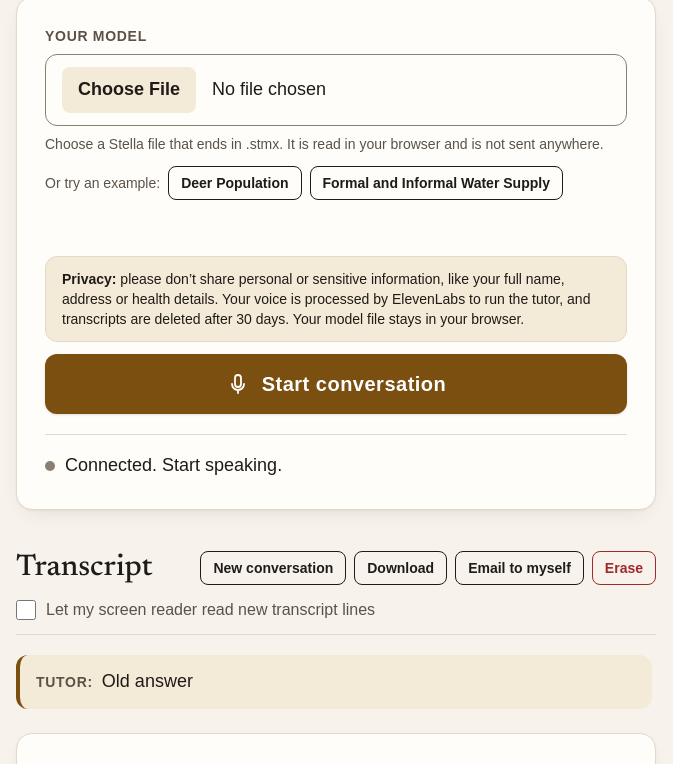
Scenario: starting over › starting again clears the previous transcript
(page scrolled)
What coordinates should you click on to do the following:
click the button "Start conversation"
I would click on:
 (336, 384)
Its box is [45,354,627,414].
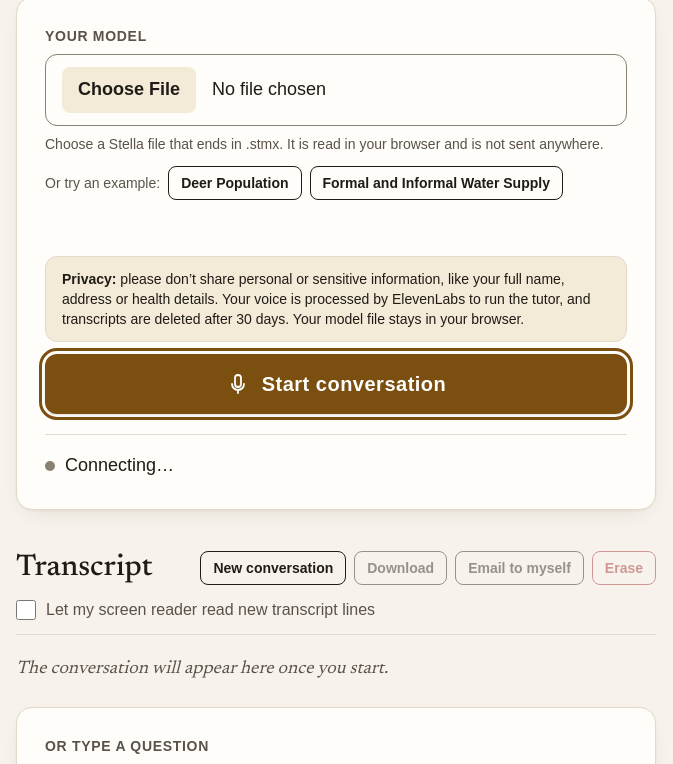
Result: no the list item "Tutor: Old answer" are shown
